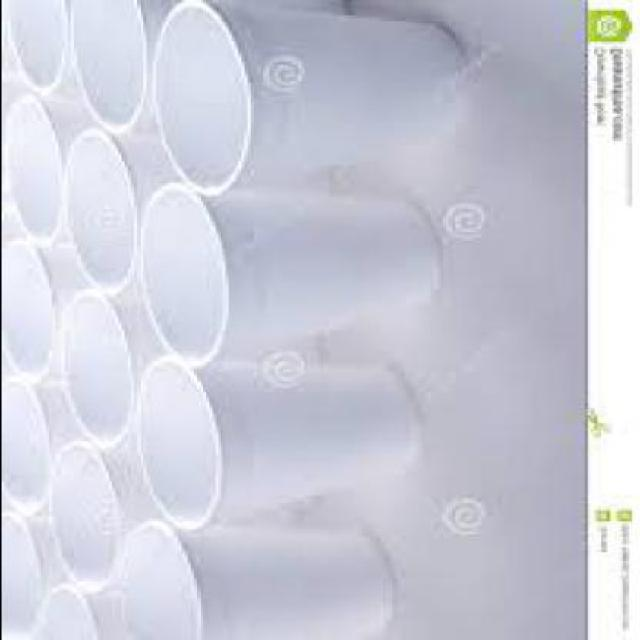PAPER: (144, 0, 448, 189), (133, 180, 432, 372), (133, 357, 413, 526), (63, 0, 346, 129), (114, 513, 391, 638), (60, 126, 186, 292), (47, 286, 164, 449), (47, 436, 151, 584), (2, 89, 89, 243), (2, 243, 86, 380), (1, 374, 76, 512), (2, 511, 63, 638), (1, 0, 76, 95), (31, 583, 117, 637)
